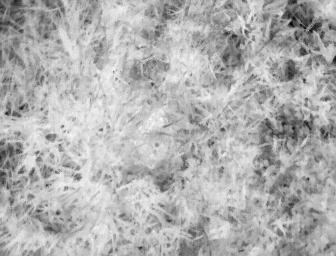landmine: (141, 129, 175, 163)
